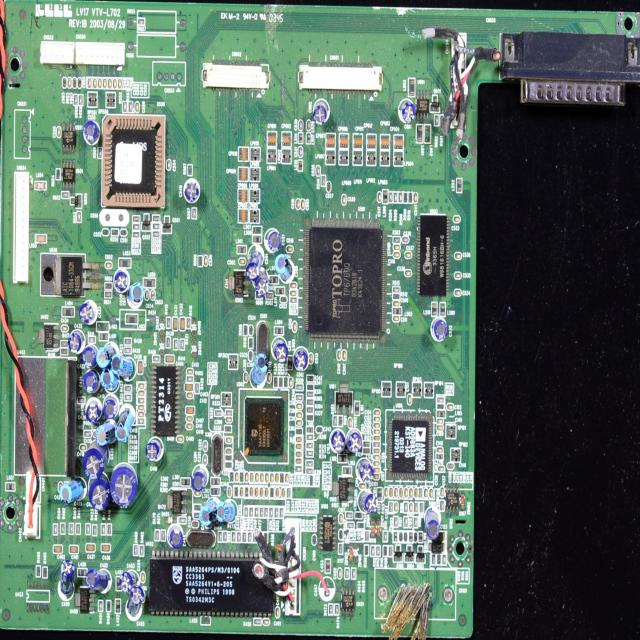Capacitor Jumper: (296, 62, 386, 93), (110, 460, 139, 509), (85, 481, 116, 514), (55, 557, 76, 604), (95, 340, 126, 370), (78, 449, 110, 476), (55, 479, 86, 506), (126, 586, 149, 621), (115, 409, 138, 444), (96, 421, 120, 450), (168, 522, 188, 556), (397, 96, 418, 128), (110, 268, 132, 298), (180, 179, 207, 203), (428, 319, 453, 343), (292, 343, 312, 373), (310, 100, 333, 126), (270, 338, 291, 366), (111, 352, 132, 380), (251, 354, 272, 382), (78, 302, 102, 326), (188, 468, 210, 494), (143, 437, 163, 465), (126, 278, 146, 306), (67, 332, 88, 358), (99, 368, 119, 392), (102, 396, 122, 418), (120, 568, 138, 592), (84, 398, 102, 422), (82, 342, 99, 366), (85, 402, 102, 426), (83, 374, 100, 394), (100, 541, 114, 557), (102, 256, 116, 272), (68, 540, 80, 556), (183, 405, 200, 416), (85, 542, 98, 556), (53, 542, 66, 556), (339, 194, 351, 209), (450, 213, 462, 227), (401, 232, 413, 246), (452, 251, 466, 263), (175, 431, 186, 445), (335, 566, 344, 582), (275, 604, 283, 622), (166, 158, 175, 174), (99, 228, 111, 240), (136, 357, 144, 375), (428, 488, 438, 502), (262, 614, 272, 628), (179, 314, 186, 334), (290, 319, 299, 334), (453, 287, 464, 299), (296, 145, 306, 158), (118, 227, 128, 240), (60, 321, 70, 334), (86, 76, 94, 91), (61, 77, 69, 92), (54, 126, 62, 141), (136, 18, 148, 28), (454, 270, 466, 280), (136, 381, 148, 391), (326, 178, 333, 195), (294, 197, 302, 211), (347, 415, 355, 429), (357, 480, 368, 490), (446, 401, 456, 412), (186, 422, 197, 432), (446, 462, 458, 471), (172, 316, 178, 334), (403, 485, 410, 500), (202, 453, 210, 466), (375, 192, 383, 205), (298, 116, 304, 133), (294, 456, 304, 466), (278, 296, 288, 306), (294, 434, 304, 444), (391, 315, 402, 324), (185, 367, 196, 376), (434, 424, 445, 433), (311, 532, 318, 546), (140, 570, 147, 584), (315, 163, 322, 177), (299, 198, 306, 212), (274, 487, 282, 499), (338, 512, 346, 524), (92, 78, 100, 90), (284, 246, 296, 254), (144, 289, 152, 301), (335, 349, 343, 361), (242, 372, 250, 384), (239, 485, 246, 498), (424, 487, 431, 500), (266, 371, 273, 384), (224, 447, 234, 456), (404, 250, 414, 259), (204, 253, 210, 268), (237, 256, 247, 265), (392, 300, 402, 309), (184, 383, 194, 392), (254, 487, 262, 498), (136, 410, 147, 418), (202, 440, 209, 452), (265, 472, 272, 484), (258, 486, 265, 498), (226, 487, 233, 499), (338, 528, 345, 540), (102, 78, 109, 90), (150, 288, 157, 300), (342, 349, 349, 361), (309, 353, 316, 365), (288, 375, 294, 389), (79, 443, 88, 452), (435, 445, 444, 454), (186, 392, 195, 401), (294, 442, 304, 450), (392, 244, 402, 252), (392, 252, 402, 260), (404, 268, 412, 278), (289, 280, 299, 288), (372, 407, 382, 415), (294, 412, 304, 420), (255, 471, 261, 484), (440, 486, 446, 499), (306, 119, 312, 132), (67, 75, 72, 90), (270, 472, 276, 484), (244, 472, 250, 484), (389, 486, 395, 498), (400, 486, 406, 498), (394, 487, 400, 499), (72, 77, 78, 89), (77, 77, 83, 89), (98, 77, 104, 89), (136, 101, 142, 113), (294, 420, 303, 428), (373, 428, 382, 436), (225, 436, 234, 444), (137, 404, 147, 411), (259, 473, 265, 484), (383, 487, 389, 498), (408, 502, 414, 513), (118, 78, 124, 89), (413, 531, 418, 544), (436, 416, 444, 424), (373, 434, 382, 441), (250, 472, 255, 484), (275, 473, 281, 483), (249, 487, 255, 497), (108, 78, 113, 90), (414, 191, 418, 206), (288, 289, 298, 295), (249, 324, 254, 336), (137, 390, 147, 396), (372, 415, 382, 421), (184, 416, 194, 422), (372, 447, 380, 454), (296, 451, 304, 458), (373, 473, 381, 480), (373, 421, 381, 428), (285, 472, 290, 483), (265, 487, 270, 498), (373, 454, 382, 460), (113, 77, 117, 90), (281, 488, 286, 498), (414, 488, 419, 498), (399, 532, 404, 542), (403, 532, 408, 542), (373, 466, 380, 473), (296, 403, 303, 410), (410, 487, 414, 499), (372, 461, 381, 466), (394, 502, 398, 513), (438, 466, 445, 472), (225, 417, 233, 422)
Connector: (199, 56, 274, 98), (10, 170, 33, 287), (76, 39, 132, 69), (9, 109, 37, 163), (150, 58, 193, 92), (38, 41, 75, 67)
IC: (302, 220, 390, 345), (100, 113, 166, 208), (240, 389, 286, 462), (416, 213, 452, 301), (40, 252, 88, 300), (150, 364, 180, 437), (76, 578, 96, 617), (228, 270, 252, 302), (39, 323, 62, 354), (23, 588, 52, 610), (415, 90, 432, 122), (320, 515, 335, 551), (168, 488, 187, 514), (336, 475, 354, 502), (61, 127, 77, 152), (61, 166, 78, 189), (444, 490, 458, 513)
Resistor Jumper: (190, 205, 202, 221), (94, 145, 105, 162), (250, 616, 264, 629), (431, 113, 440, 131), (73, 210, 83, 226), (186, 314, 194, 331), (165, 316, 174, 331), (76, 394, 87, 406), (58, 190, 71, 200), (334, 603, 342, 619), (178, 516, 190, 526), (91, 522, 99, 537), (132, 542, 140, 557), (34, 565, 42, 580), (350, 566, 358, 581), (327, 602, 335, 617), (102, 291, 114, 301), (264, 290, 274, 302), (173, 338, 181, 353), (59, 521, 66, 538), (196, 253, 203, 270), (103, 281, 116, 290), (68, 522, 76, 536), (52, 522, 60, 536), (100, 523, 108, 537), (153, 526, 160, 542), (375, 544, 382, 560), (343, 566, 351, 580), (187, 162, 195, 176), (223, 459, 234, 469), (401, 517, 410, 529), (212, 407, 224, 416), (224, 408, 236, 417), (106, 522, 113, 537), (105, 598, 112, 613), (84, 523, 92, 536), (110, 227, 118, 240), (185, 376, 198, 384), (331, 414, 339, 427), (152, 354, 162, 364), (436, 395, 446, 405), (136, 417, 146, 427), (223, 422, 233, 432), (223, 454, 234, 463), (294, 381, 305, 390), (75, 522, 82, 536), (160, 528, 167, 542), (383, 530, 390, 544), (42, 565, 49, 579), (98, 600, 105, 614), (412, 516, 420, 528), (338, 542, 344, 558), (139, 543, 145, 559), (388, 544, 394, 560), (55, 166, 61, 182), (439, 499, 446, 512), (364, 545, 371, 558), (165, 336, 172, 349), (345, 510, 355, 519), (408, 190, 414, 205), (152, 213, 162, 222), (132, 222, 142, 231), (242, 322, 248, 337), (306, 373, 316, 382), (124, 393, 133, 403), (83, 429, 93, 438), (131, 215, 142, 223), (87, 336, 98, 344), (123, 347, 134, 355), (136, 396, 147, 404), (305, 398, 316, 406), (418, 485, 424, 499), (264, 506, 271, 518), (274, 506, 280, 520), (398, 191, 404, 205), (248, 336, 255, 348), (194, 382, 200, 396), (306, 449, 315, 458), (152, 229, 161, 238), (60, 348, 69, 357), (306, 441, 316, 449), (228, 472, 236, 482), (132, 230, 142, 238), (124, 337, 134, 345), (59, 340, 69, 348), (306, 384, 316, 392), (388, 501, 394, 514), (382, 544, 388, 557), (436, 554, 442, 567), (278, 375, 284, 388), (393, 516, 400, 527), (78, 94, 83, 109), (180, 337, 185, 352), (363, 440, 372, 448), (280, 472, 286, 484), (347, 523, 356, 531), (247, 531, 253, 543), (232, 531, 238, 543), (402, 192, 408, 204), (388, 192, 394, 204), (272, 376, 278, 388), (296, 393, 305, 401), (306, 406, 315, 414), (306, 414, 315, 422), (370, 544, 375, 558), (306, 391, 316, 398), (240, 473, 246, 484), (260, 506, 266, 517), (249, 506, 255, 517), (236, 532, 242, 543), (431, 555, 437, 566), (338, 417, 344, 428), (73, 94, 78, 107), (393, 190, 398, 203), (283, 375, 288, 388), (362, 448, 371, 455), (306, 434, 315, 441), (403, 502, 408, 514), (244, 506, 250, 516), (280, 508, 286, 518), (129, 100, 134, 112), (288, 297, 298, 303), (124, 385, 134, 391), (306, 460, 314, 467), (306, 467, 314, 474), (223, 530, 227, 544), (443, 553, 447, 567), (270, 488, 275, 499), (152, 223, 161, 229), (392, 285, 401, 291), (436, 403, 445, 409), (255, 506, 259, 519), (372, 441, 382, 446), (218, 532, 223, 542), (122, 102, 127, 112), (392, 293, 402, 298), (295, 466, 303, 472), (270, 506, 274, 518), (414, 502, 418, 513), (420, 502, 424, 512), (242, 532, 246, 542)
Transistor: (160, 213, 174, 241), (67, 193, 83, 211), (430, 94, 442, 114), (142, 212, 150, 236)
